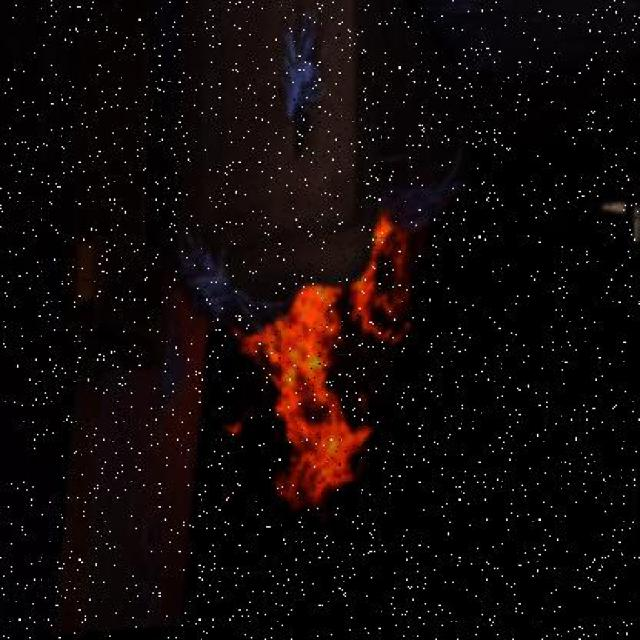fire: (225, 296, 414, 533)
